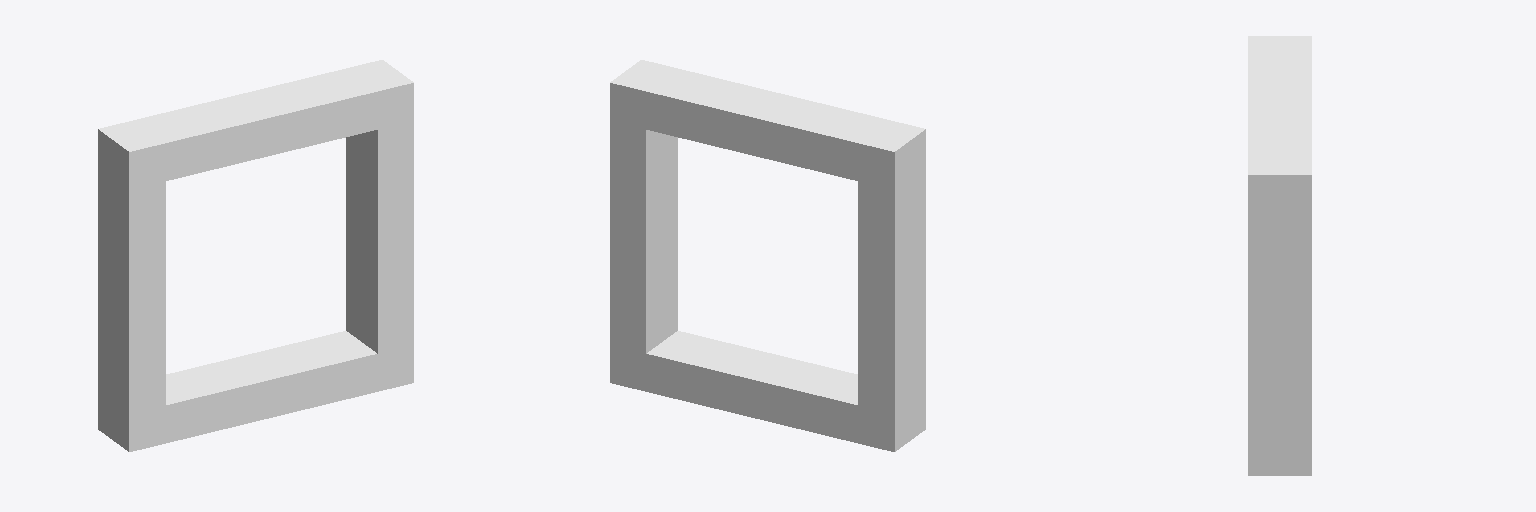
File: Portal-1.obj
3 renders of one model, left to right at view 1: azimuth 30°, elevation 25°; view 2: azimuth 150°, elevation 25°; view 3: azimuth 270°, elevation 25°, orthographic.
Visible parts, largest first — view 1: object 1; view 2: object 1; view 3: object 1.
Boxes of the visible parts, <box> form: object 1: <box>98,60,413,451</box>; object 1: <box>610,60,925,451</box>; object 1: <box>1248,36,1311,475</box>.
Bounding box in the file's own units: 12.5 × 12.6 × 2.4.